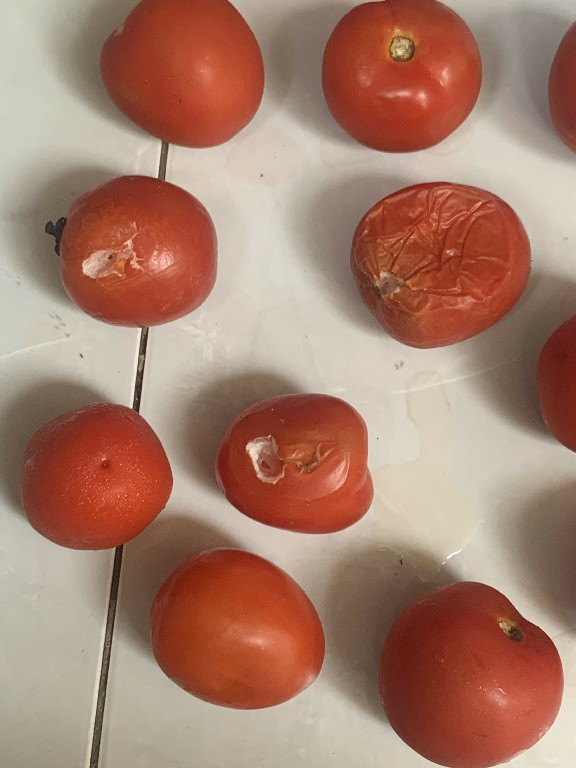NG: (344, 166, 536, 351), (36, 170, 218, 330), (209, 390, 388, 537)
OK: (381, 572, 573, 767), (145, 544, 328, 710), (315, 0, 483, 154), (10, 397, 175, 553), (95, 0, 265, 150)
